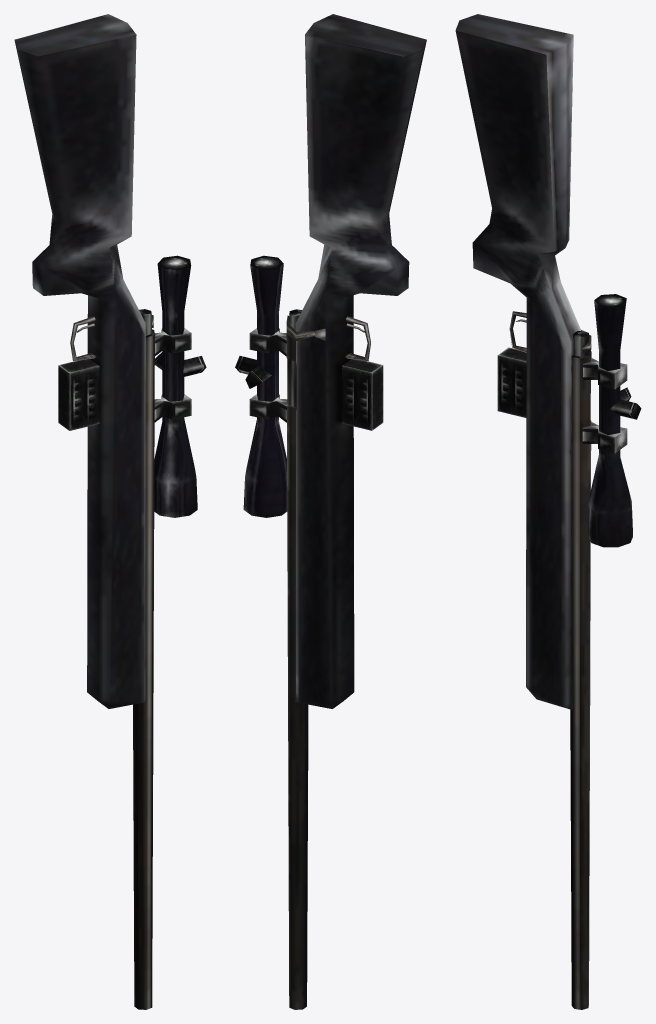
Rendered from Sniper.obj.
The picture shows the model from 3 angles, left to right: view 1: azimuth 30°, elevation 25°; view 2: azimuth 150°, elevation 25°; view 3: azimuth 330°, elevation 25°; orthographic projection. The views are drawn at different scales.
Visible parts, largest first — view 1: sniper.sniper.smd.mesh_0; view 2: sniper.sniper.smd.mesh_0; view 3: sniper.sniper.smd.mesh_0.
Boxes of the visible parts, x1,y1,x2,y2 form: sniper.sniper.smd.mesh_0: (14, 14, 206, 1009); sniper.sniper.smd.mesh_0: (235, 14, 426, 1009); sniper.sniper.smd.mesh_0: (455, 14, 641, 1009).
Size of the model in its own units: 9.85 by 50.69 by 3.
Materials: 1 (1 with a texture image).
